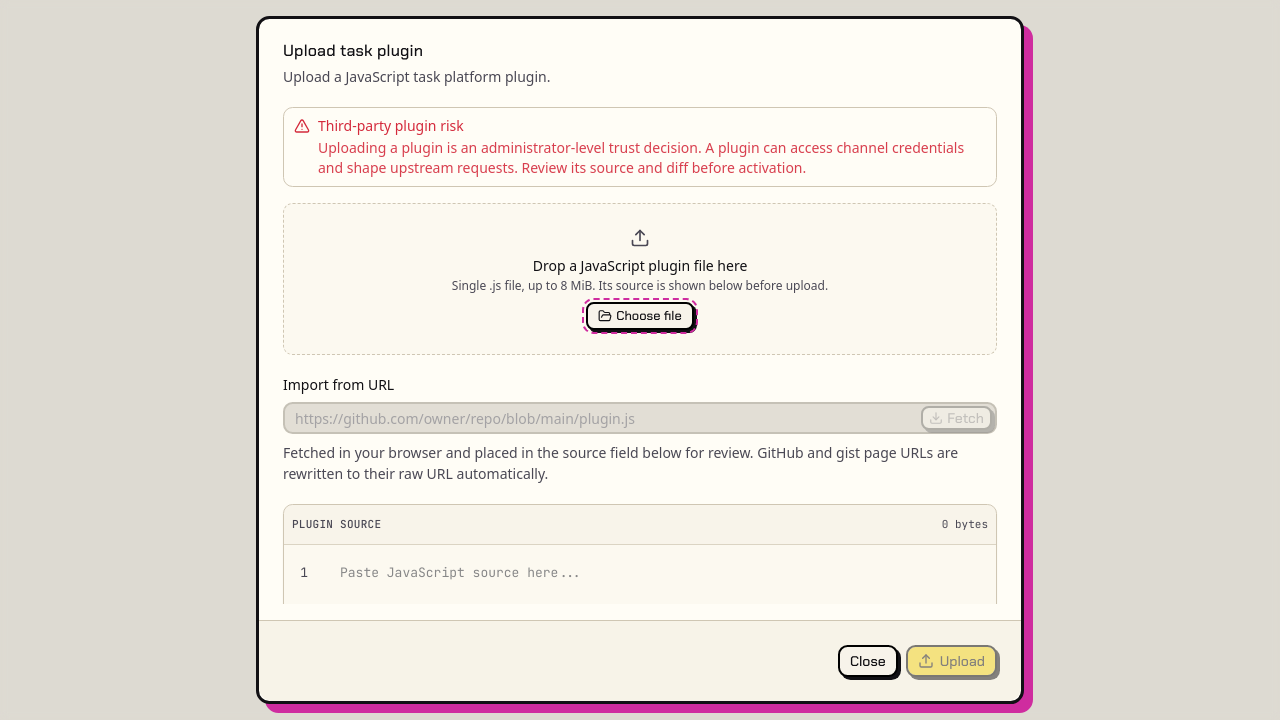
Test case: UploadDialog URL import › keeps Fetch disabled until a URL is typed, then fills the source
The image size is (1280, 720).
expect the button "Fetch" is disabled: met, box left=921, top=406, right=992, bottom=430
Type "https://example.com/plugin.js" into the field labelled "Import from URL" at coordinates (603, 418), box left=285, top=402, right=921, bottom=434
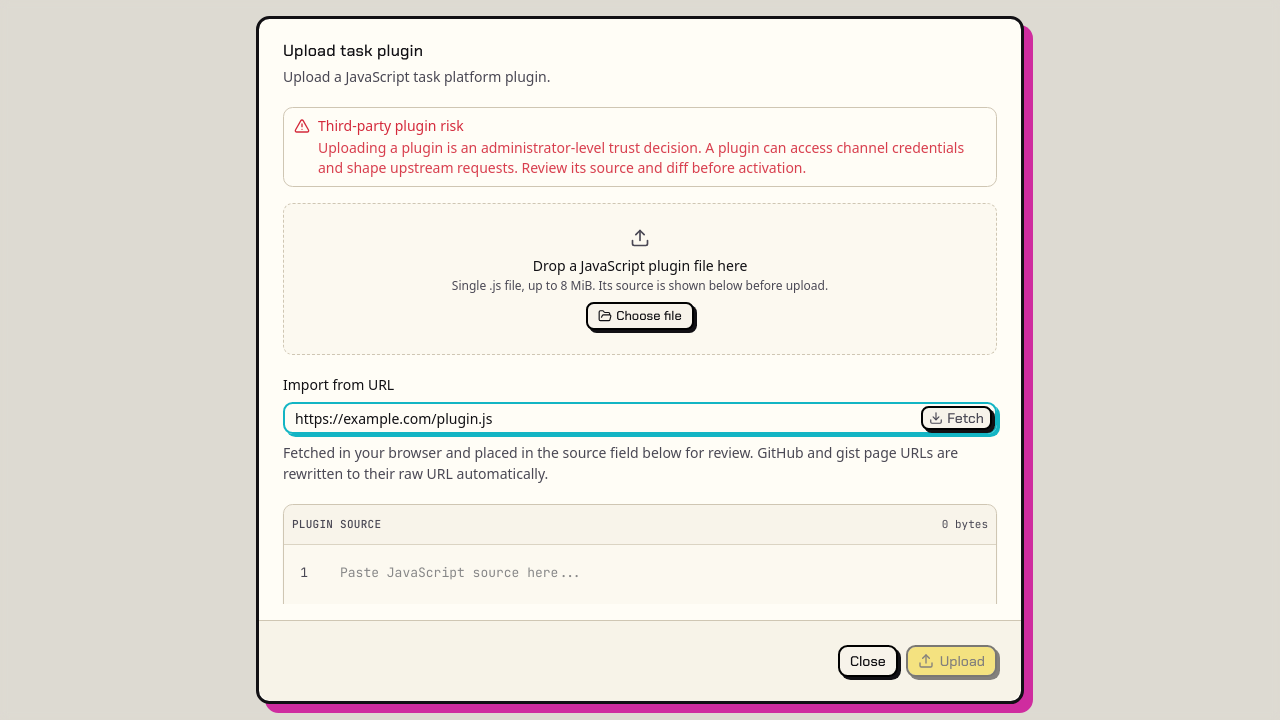
expect the button "Fetch" is enabled: met
Click the button "Fetch" at coordinates (957, 418), box left=921, top=406, right=992, bottom=430
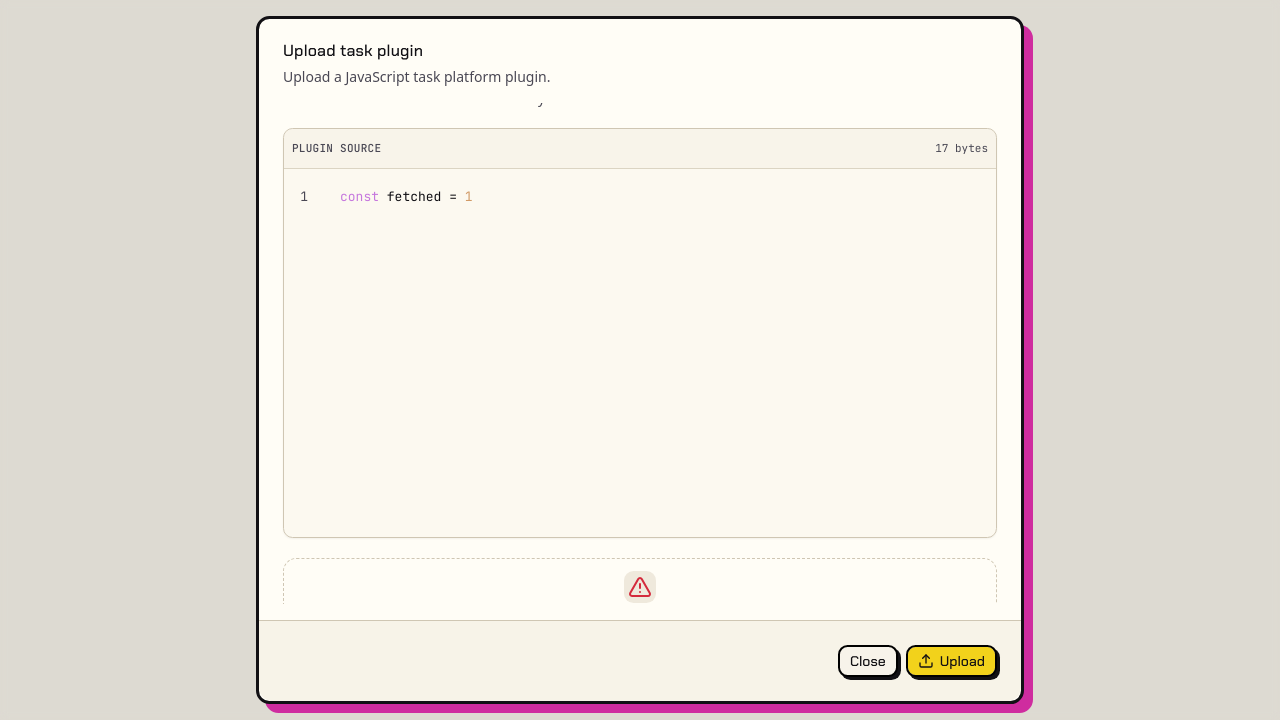
expect the field with class "cm-content" reads "const fetched = 1": met, box left=340, top=188, right=473, bottom=205
